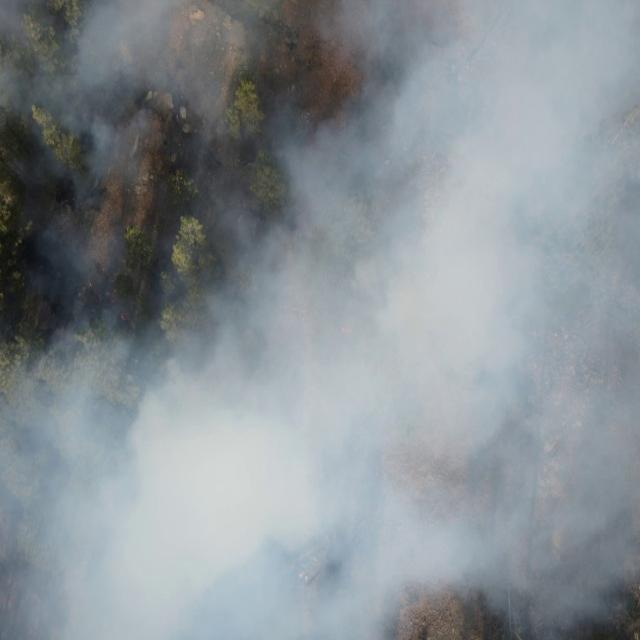fire: (77, 110, 91, 124), (119, 310, 129, 324)
smoke: (0, 330, 640, 640), (0, 5, 639, 199), (25, 198, 640, 329)
